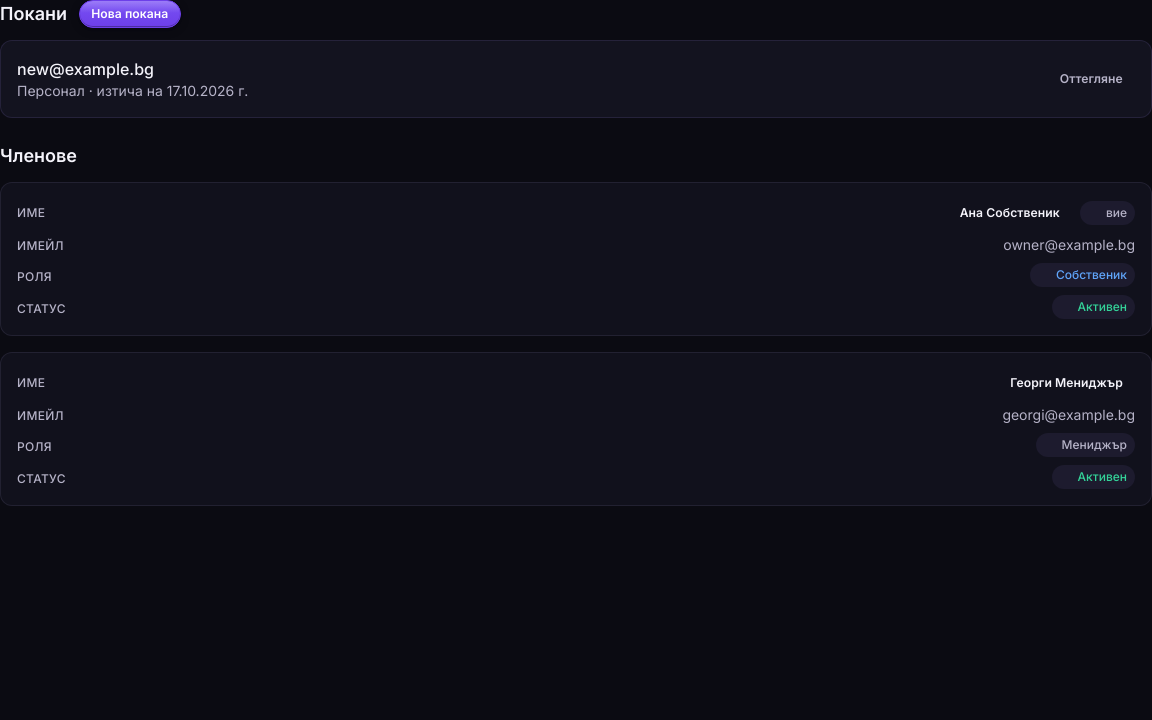
Test: inviting more than once (#328) › an error stays with the attempt it answered, not the next opening of the form
This screenshot has width=1152, height=720.
Click the button "Нова покана".
click(130, 14)  # box x1=79 y1=0 x2=181 y2=28
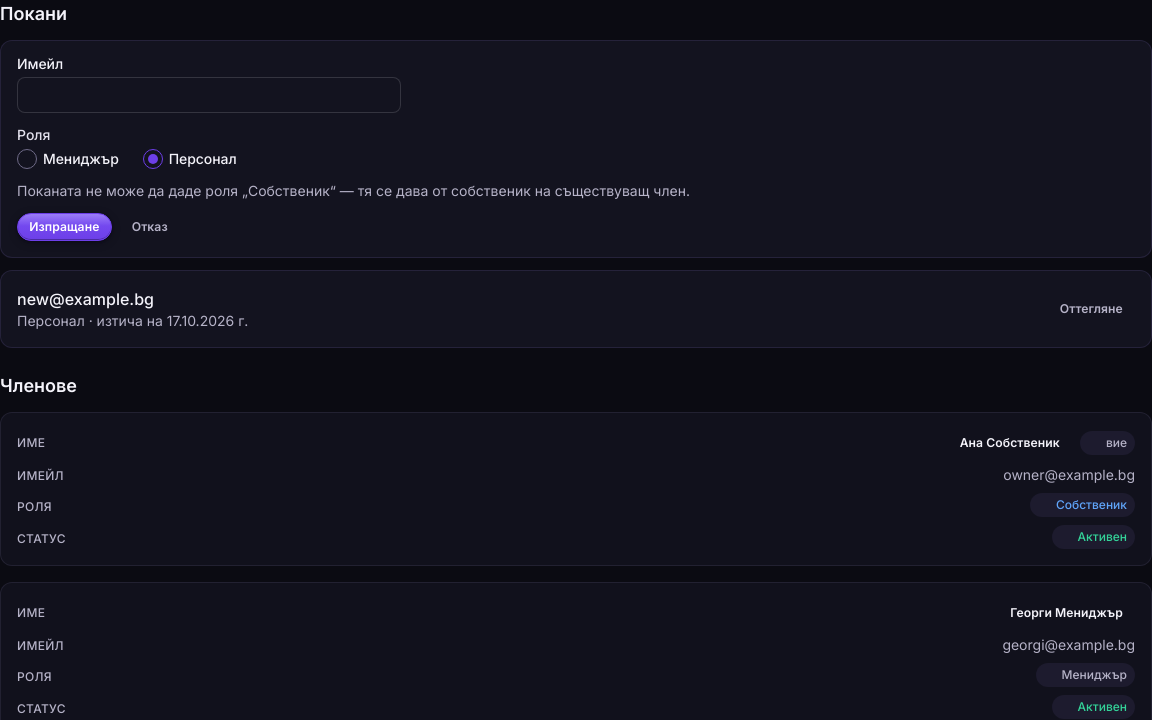
Type "nope@example.bg" into the field labelled "Имейл".
click(209, 95); type("nope@example.bg")  # box x1=17 y1=77 x2=401 y2=113
Click the button "Изпращане".
click(64, 227)  # box x1=17 y1=213 x2=112 y2=241
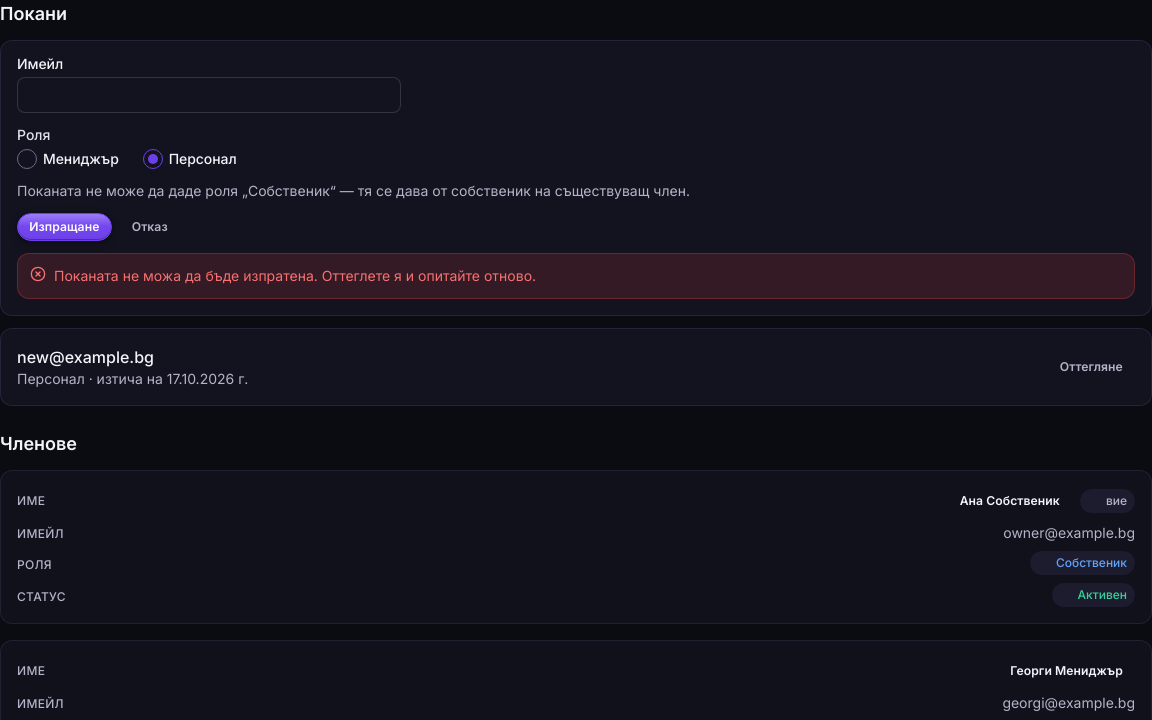
Check: the text "Поканата не можа да бъде изпратена. Оттеглете я и опитайте отново." is shown, box x1=54 y1=267 x2=536 y2=284
Click the button "Отказ".
click(150, 227)  # box x1=120 y1=213 x2=180 y2=241
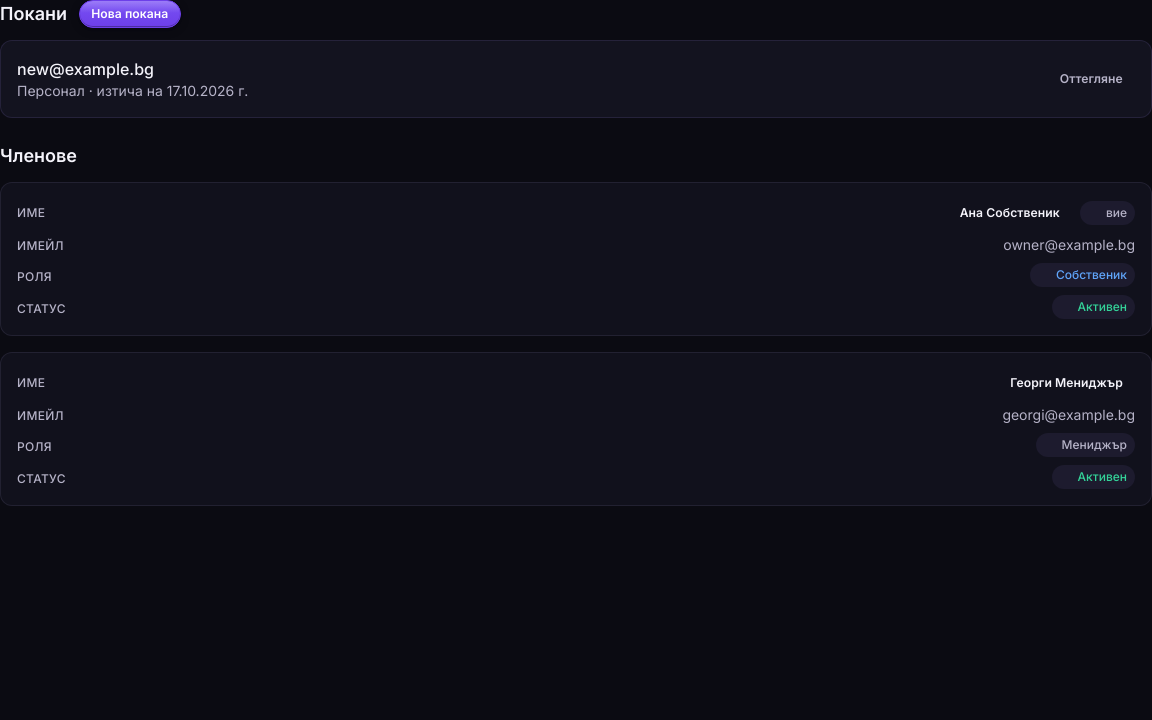
Click the button "Нова покана".
click(130, 14)  # box x1=79 y1=0 x2=181 y2=28
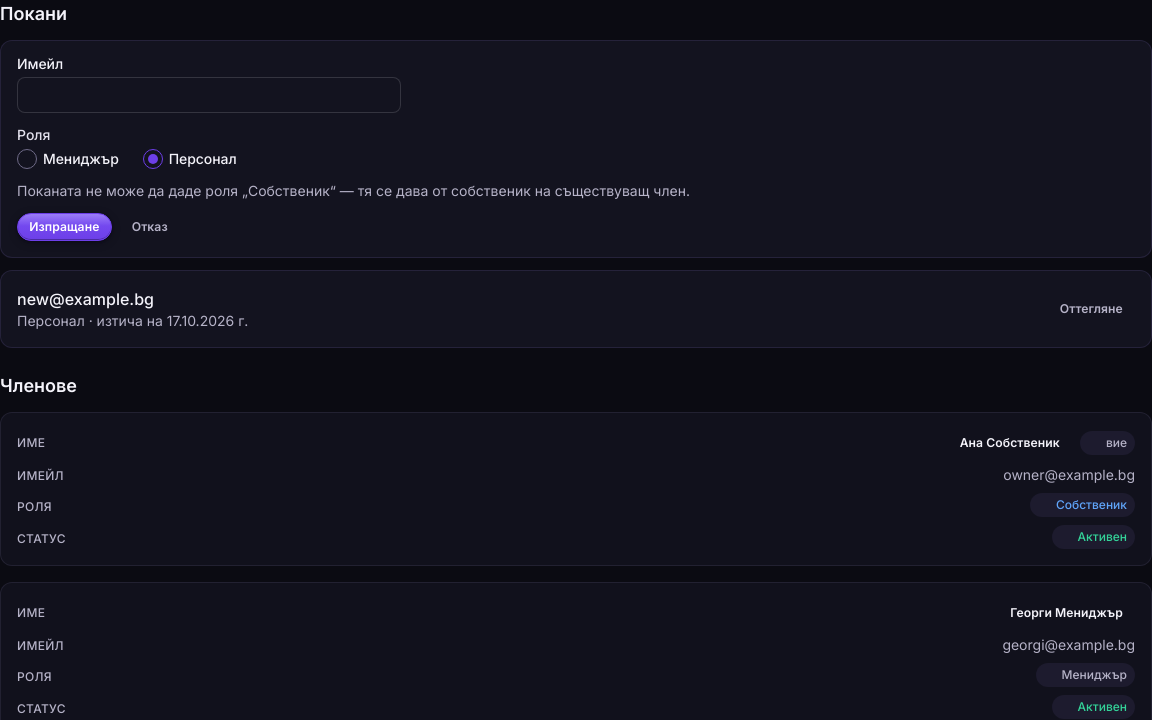
Check: the text "Поканата не можа да бъде изпратена. Оттеглете я и опитайте отново." is not shown
Type "again@example.bg" into the field labelled "Имейл".
click(209, 95); type("again@example.bg")  # box x1=17 y1=77 x2=401 y2=113
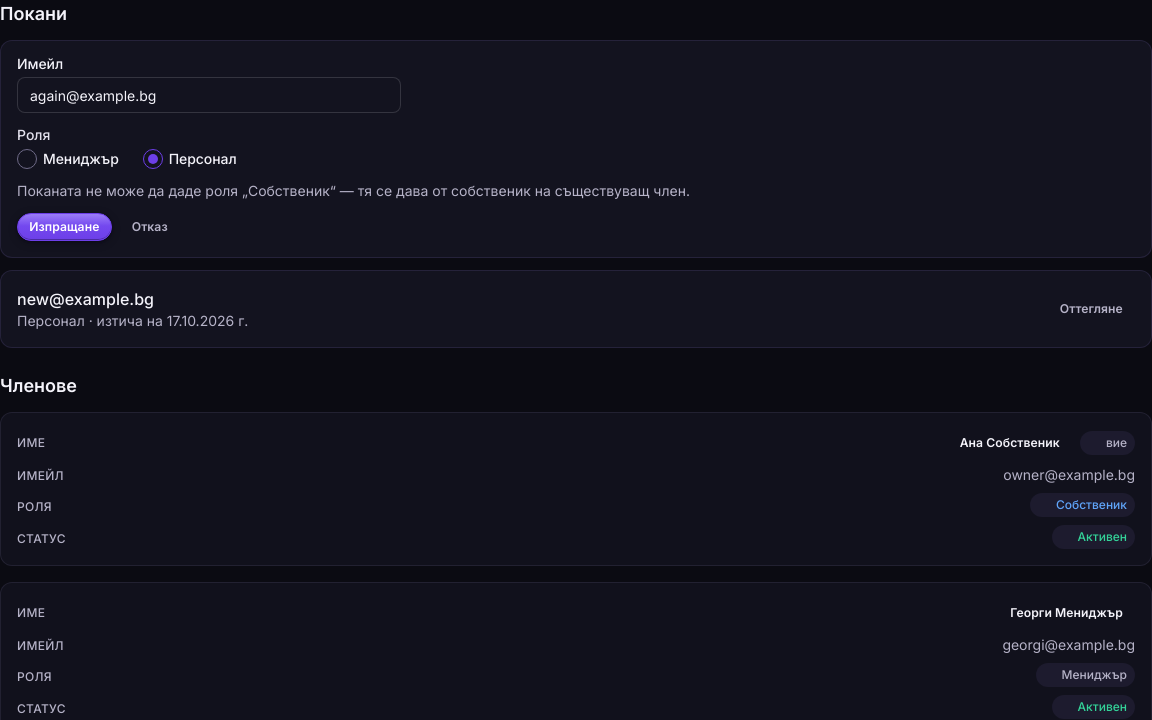
Click the button "Изпращане".
click(64, 227)  # box x1=17 y1=213 x2=112 y2=241
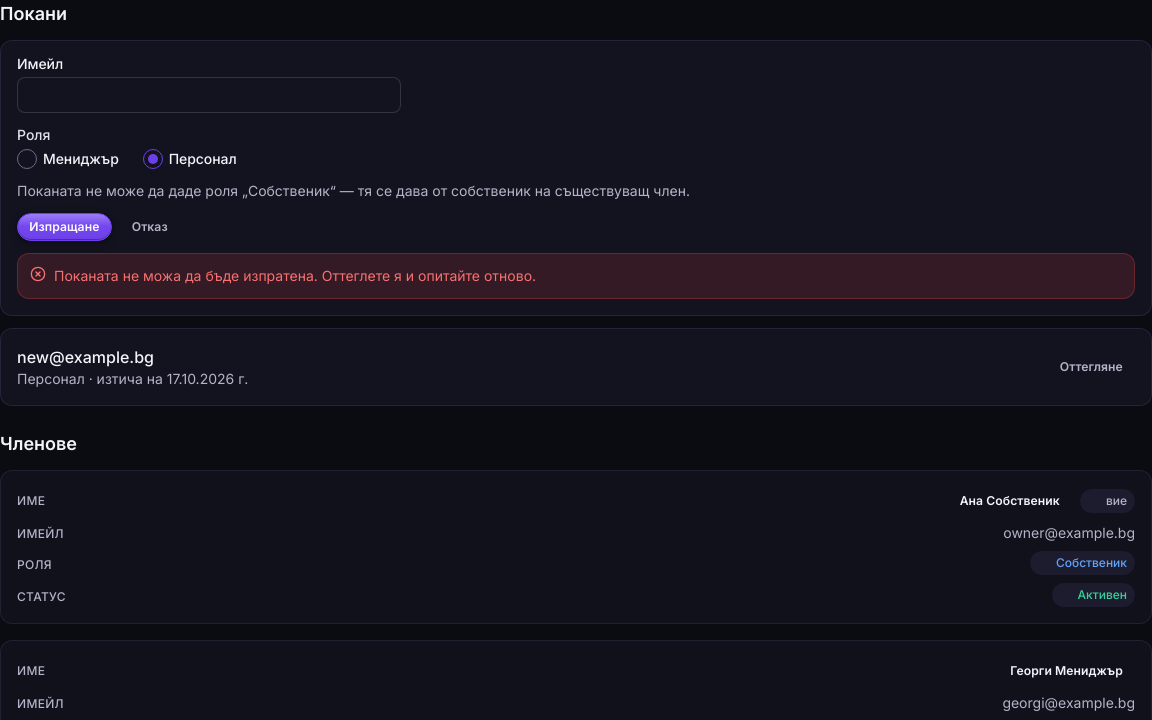
Check: the text "Поканата не можа да бъде изпратена. Оттеглете я и опитайте отново." is shown, box x1=54 y1=267 x2=536 y2=284
